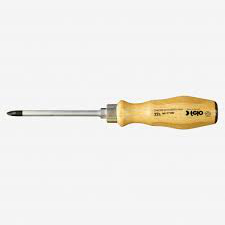screwdriver: (5, 87, 224, 139)
